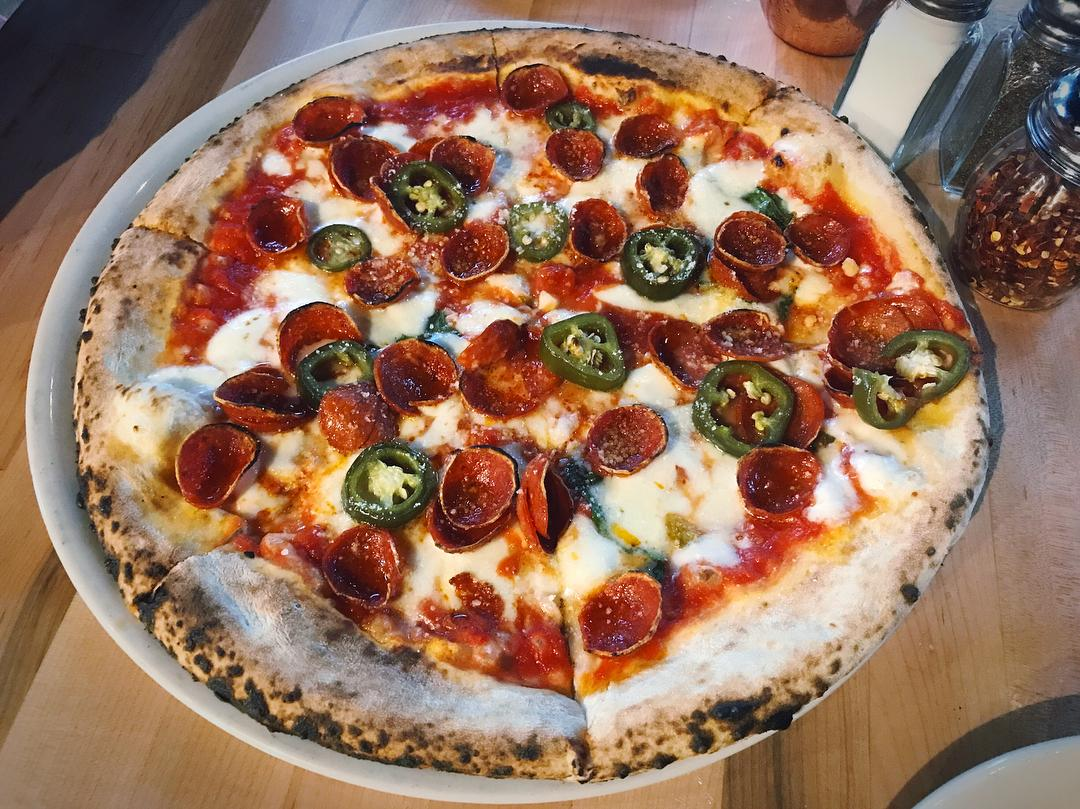Pepperoni: (576, 573, 661, 658), (173, 419, 257, 505), (405, 134, 496, 202), (322, 528, 395, 611), (735, 442, 814, 517), (438, 448, 512, 528), (206, 365, 304, 425), (372, 335, 454, 406), (432, 476, 508, 551), (458, 355, 558, 412), (825, 300, 906, 369), (589, 403, 667, 474), (648, 320, 719, 391), (752, 378, 822, 450), (326, 128, 393, 199), (275, 303, 351, 365), (438, 220, 510, 281), (709, 305, 785, 362), (603, 306, 679, 363), (318, 386, 385, 450), (458, 320, 541, 370), (515, 455, 560, 546), (345, 253, 418, 309), (499, 60, 566, 117), (293, 93, 369, 143), (713, 210, 783, 264), (246, 192, 305, 256), (787, 212, 849, 267), (570, 199, 626, 259), (543, 132, 605, 182), (613, 112, 675, 161), (635, 152, 688, 208), (723, 260, 780, 297)
Peppers: (686, 362, 800, 456), (880, 320, 969, 403), (340, 440, 425, 523), (543, 308, 625, 388), (622, 220, 700, 295), (383, 166, 467, 234), (296, 338, 375, 404), (508, 200, 569, 264), (852, 370, 914, 430), (306, 222, 372, 272), (746, 186, 795, 229), (546, 98, 598, 138)
Pizza: (78, 25, 990, 779)
